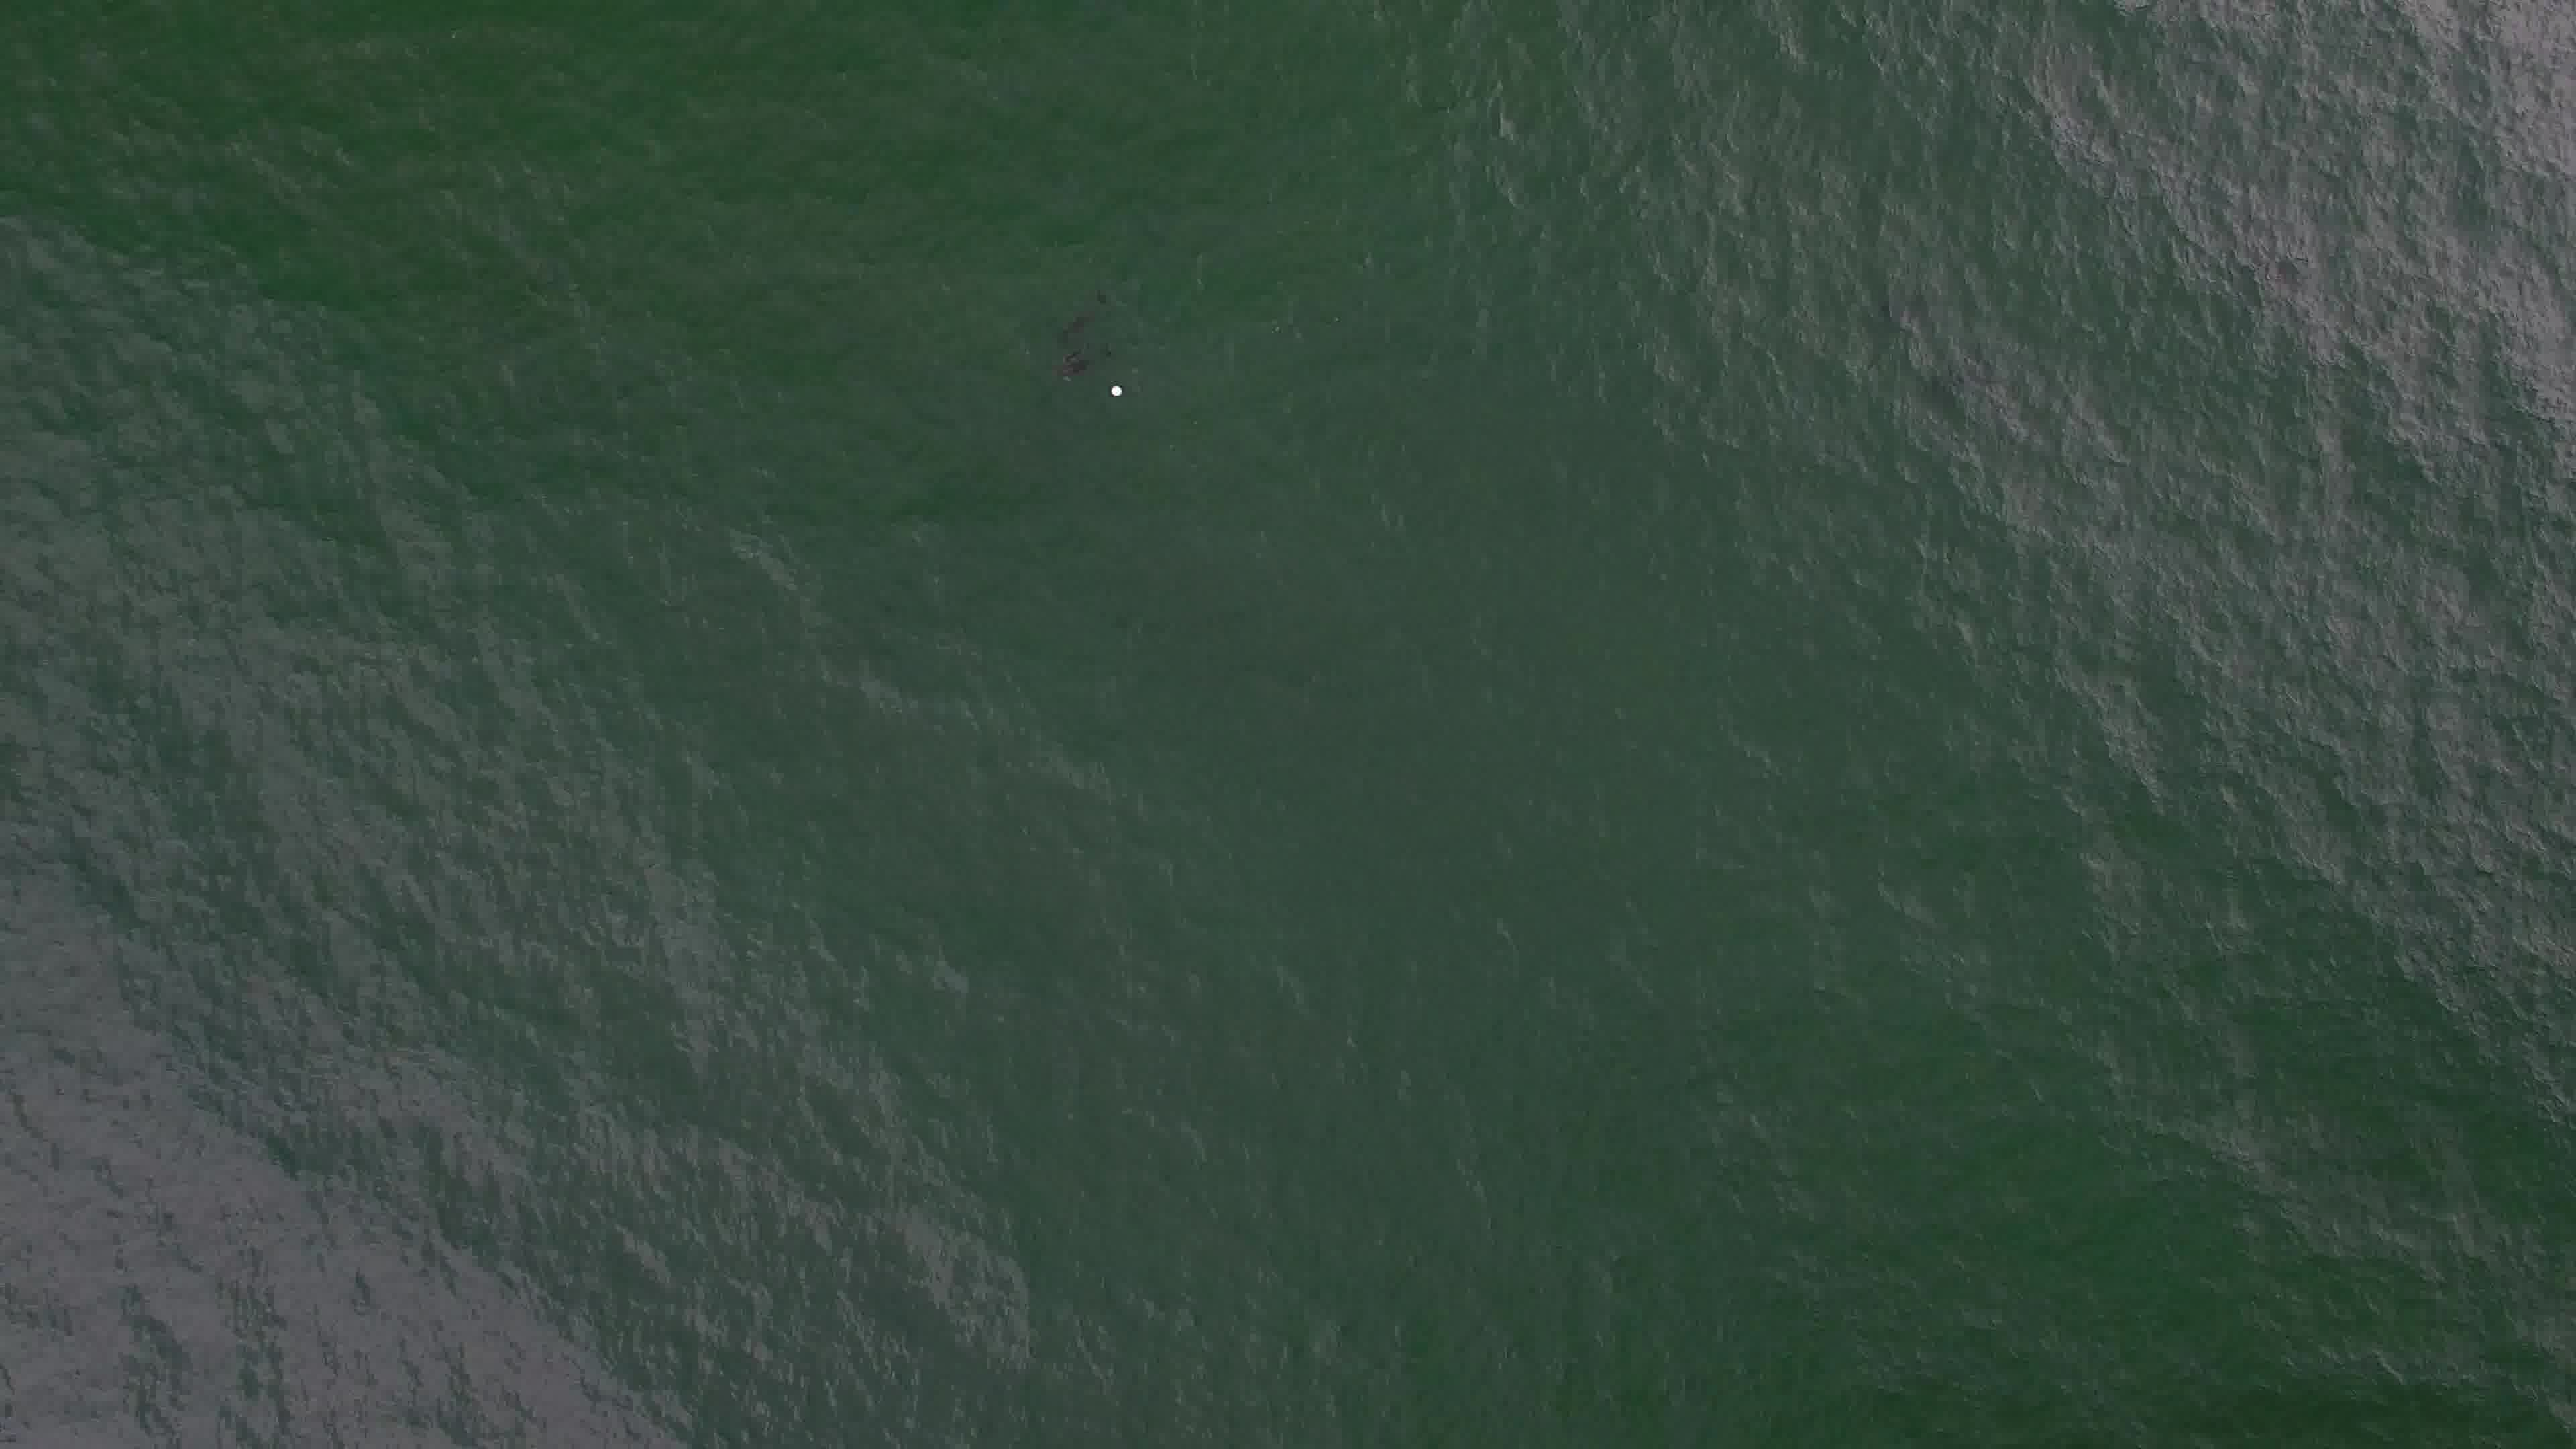dolphin: (1035, 274, 1123, 343), (1035, 329, 1127, 377)
